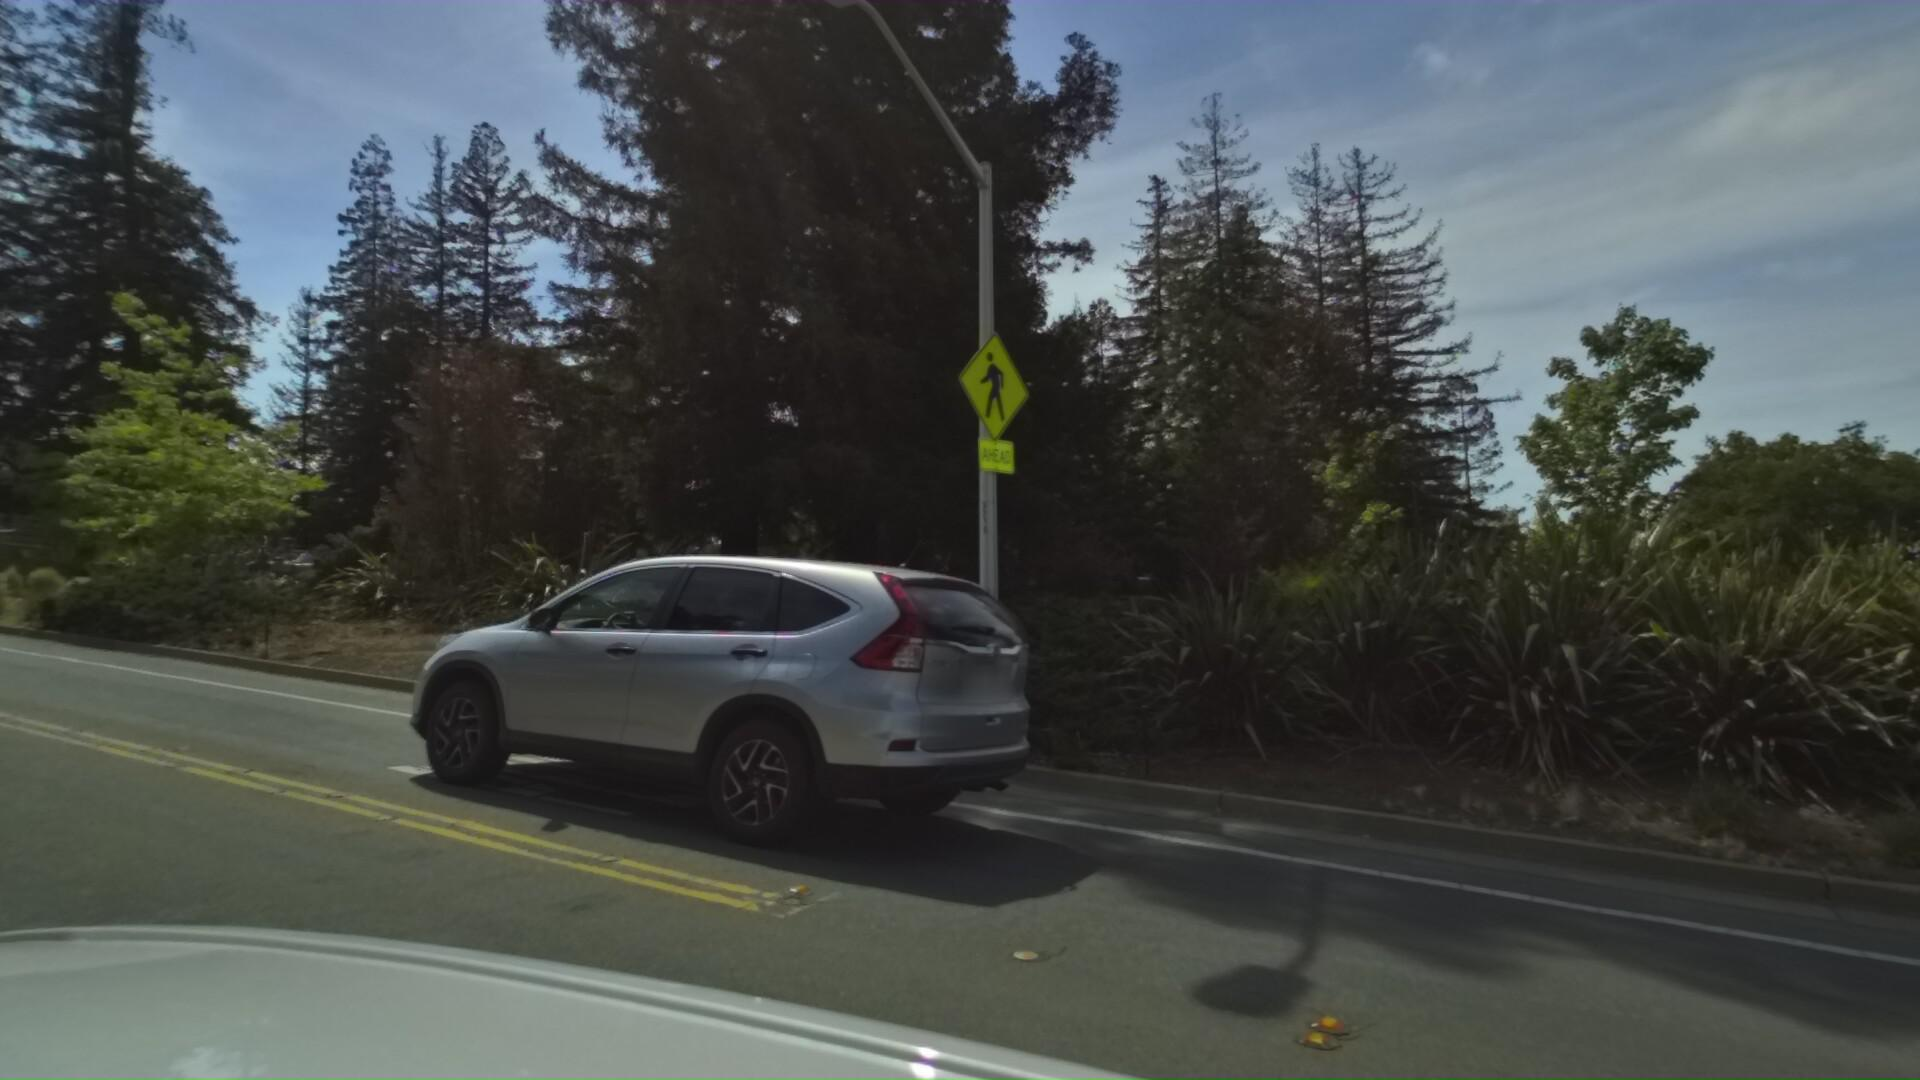car: (270, 516, 916, 858)
